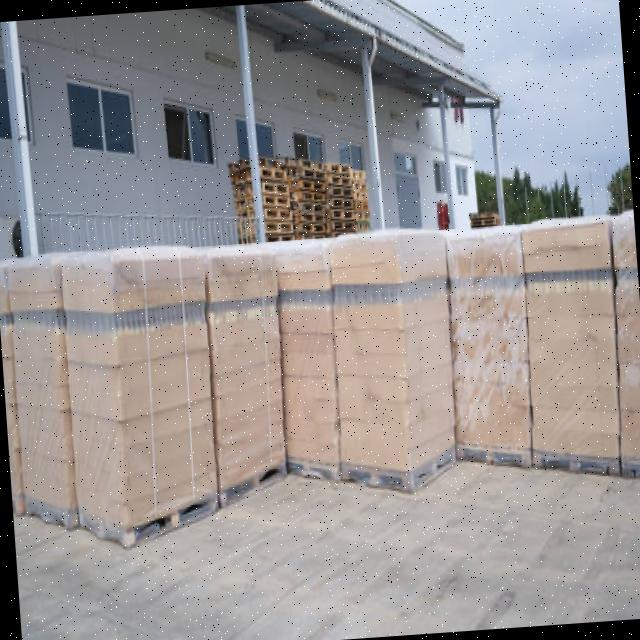Wooden-Pallets: (81, 480, 217, 551), (343, 442, 459, 503), (216, 455, 286, 517), (530, 439, 621, 486), (457, 436, 528, 477), (24, 490, 79, 535), (285, 449, 338, 490), (258, 176, 296, 203), (323, 154, 355, 185), (324, 183, 362, 203)
